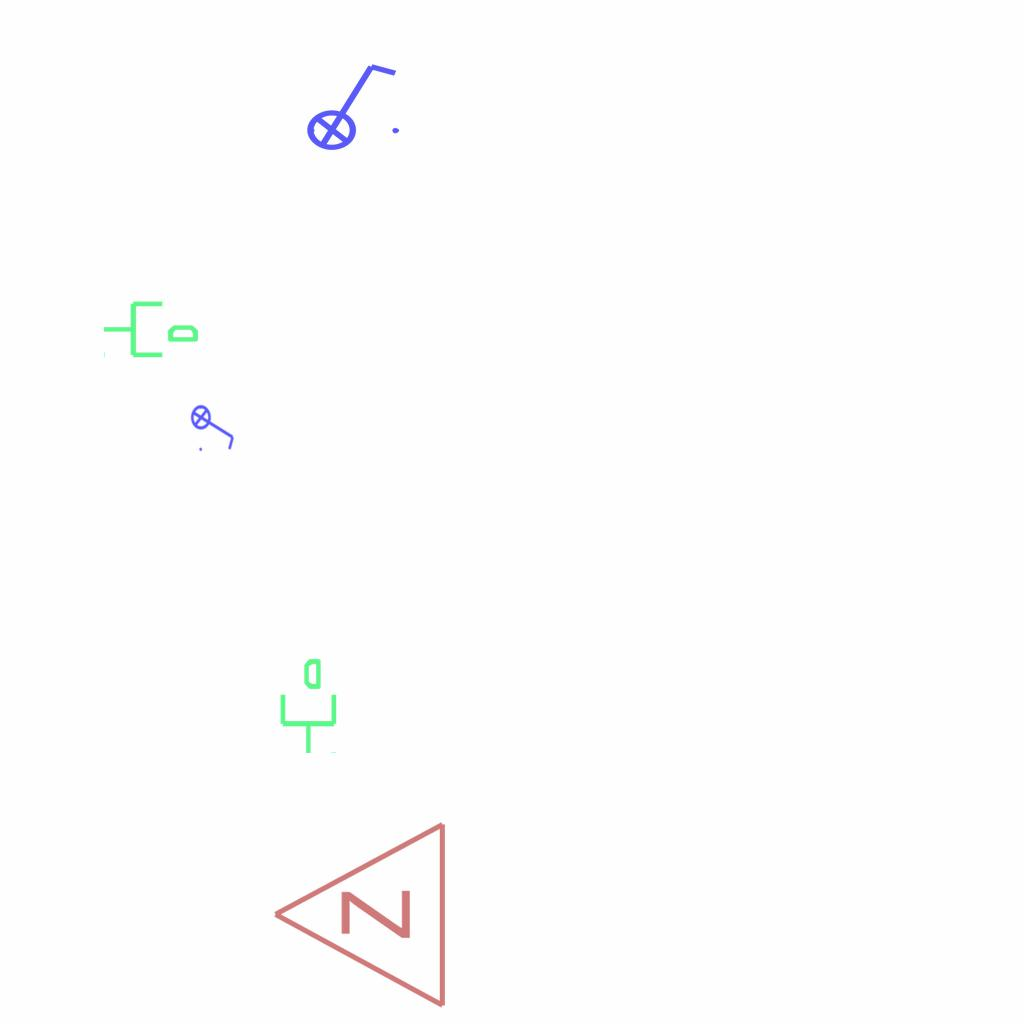Ausschalter_beleuchtet: (293, 56, 405, 152), (190, 398, 238, 454)
Datenanschluss_einfach: (101, 293, 201, 362), (272, 656, 341, 756)
Zimmersignalleuchte: (260, 819, 460, 1015)
